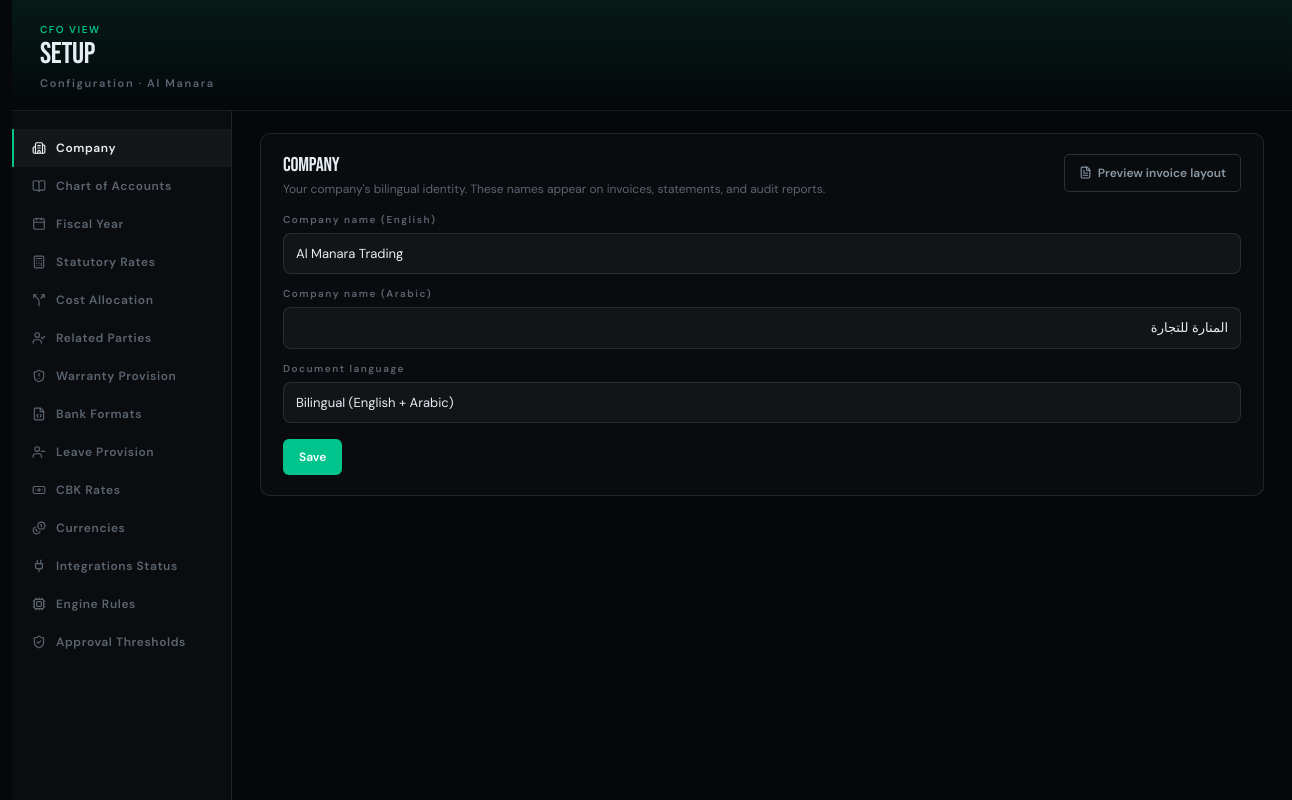
Test case: HASEEB-448 — SetupScreen onboarding polish › company section: save blocked when either name is empty (validation)
Clear the field with test id "company-name-en" at {"x": 762, "y": 253}, box 283,232 -> 1241,274
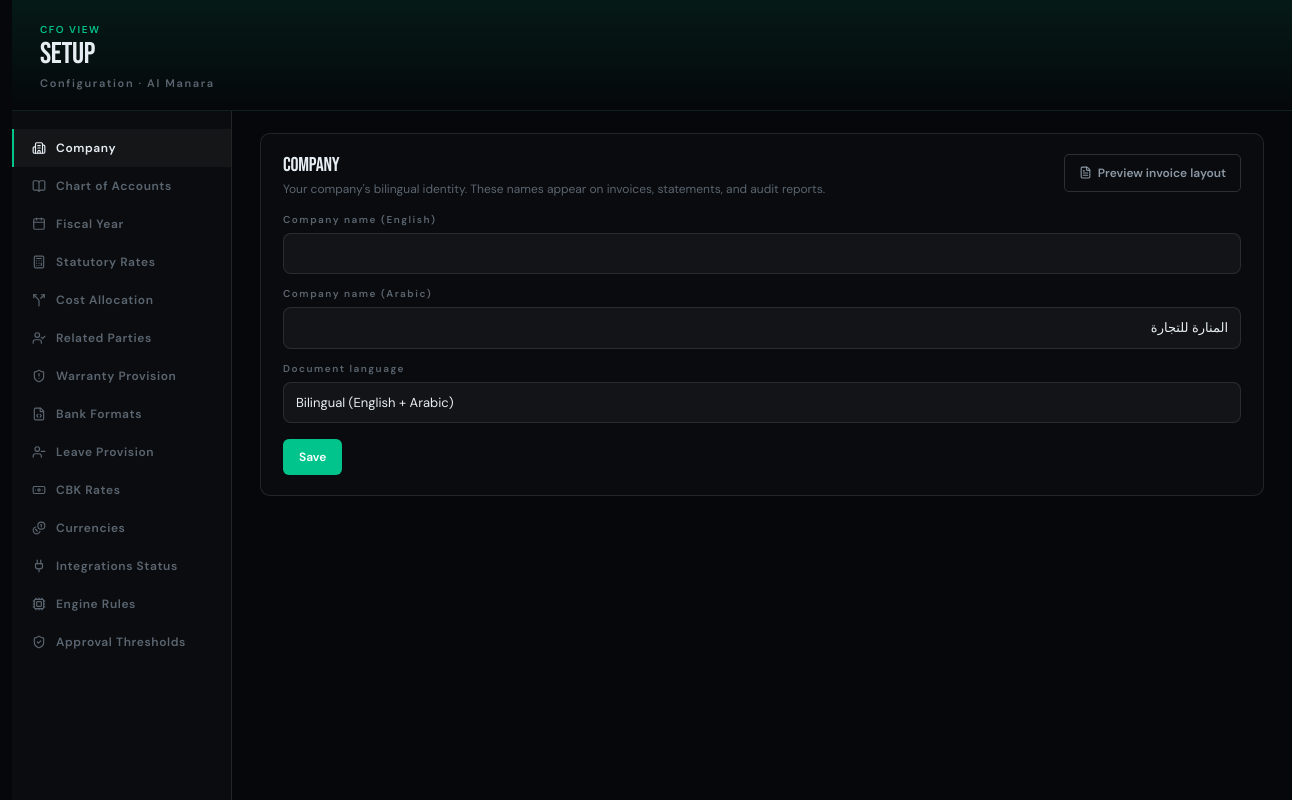
Clear the field with test id "company-name-ar" at {"x": 762, "y": 328}, box 283,307 -> 1241,348
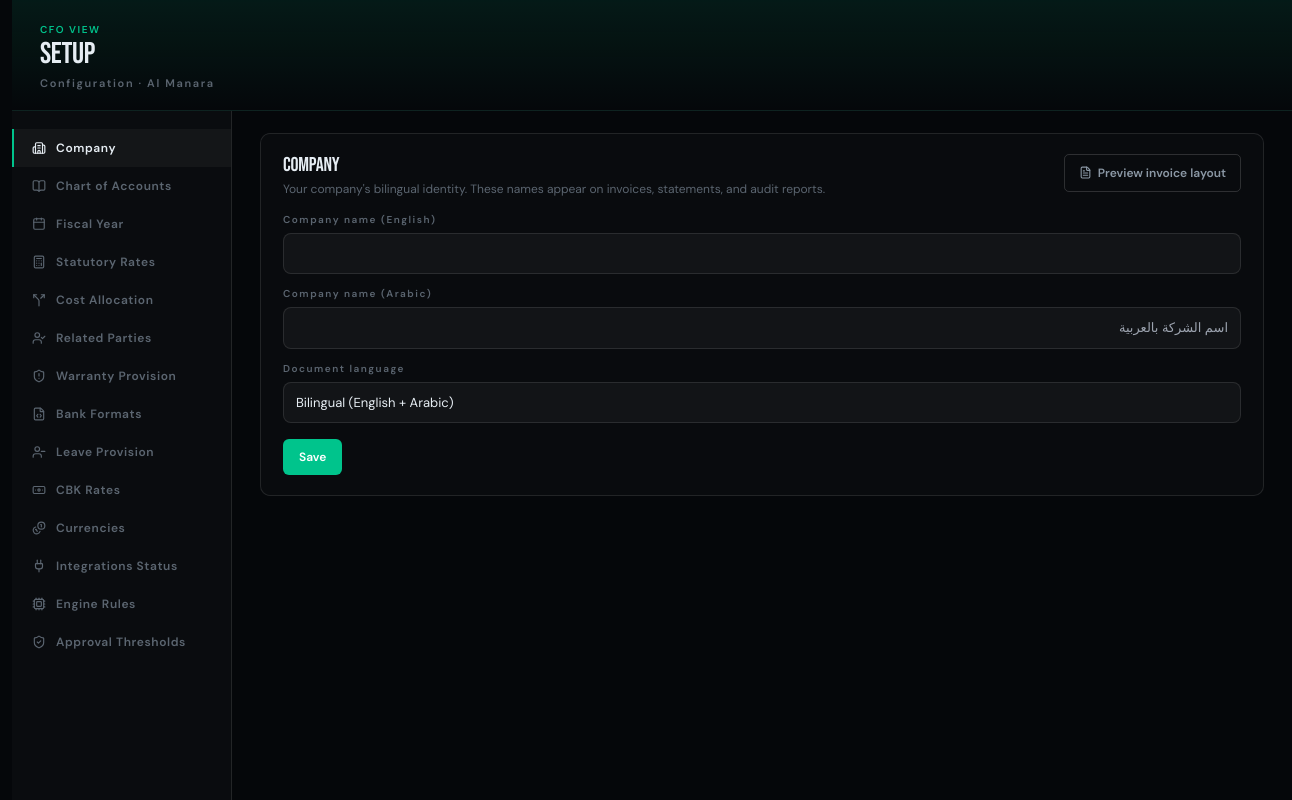
Click the button with test id "company-save".
click(313, 457)  # box 283,439 -> 342,475
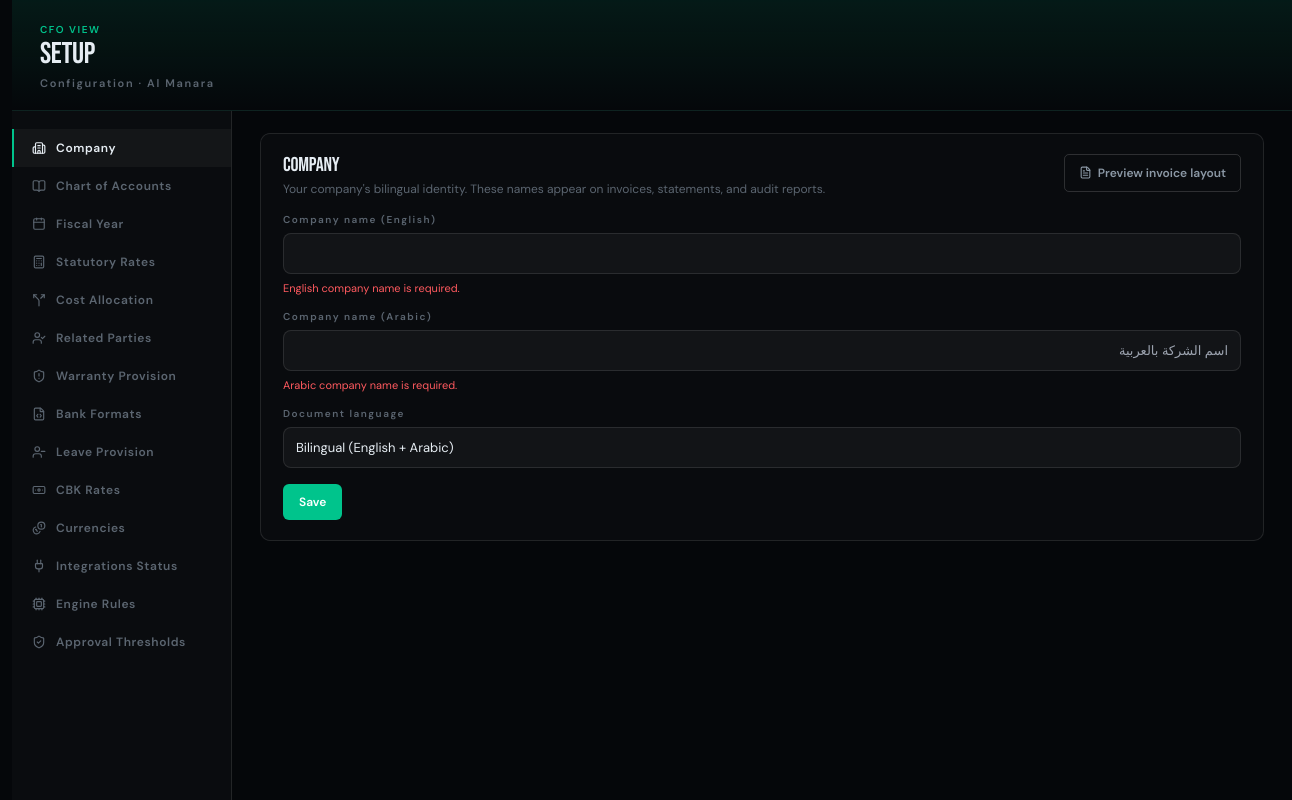
Check: the message "English company name is required." is shown, box 283,281 -> 460,295
Check: the message "Arabic company name is required." is shown, box 283,378 -> 457,392
